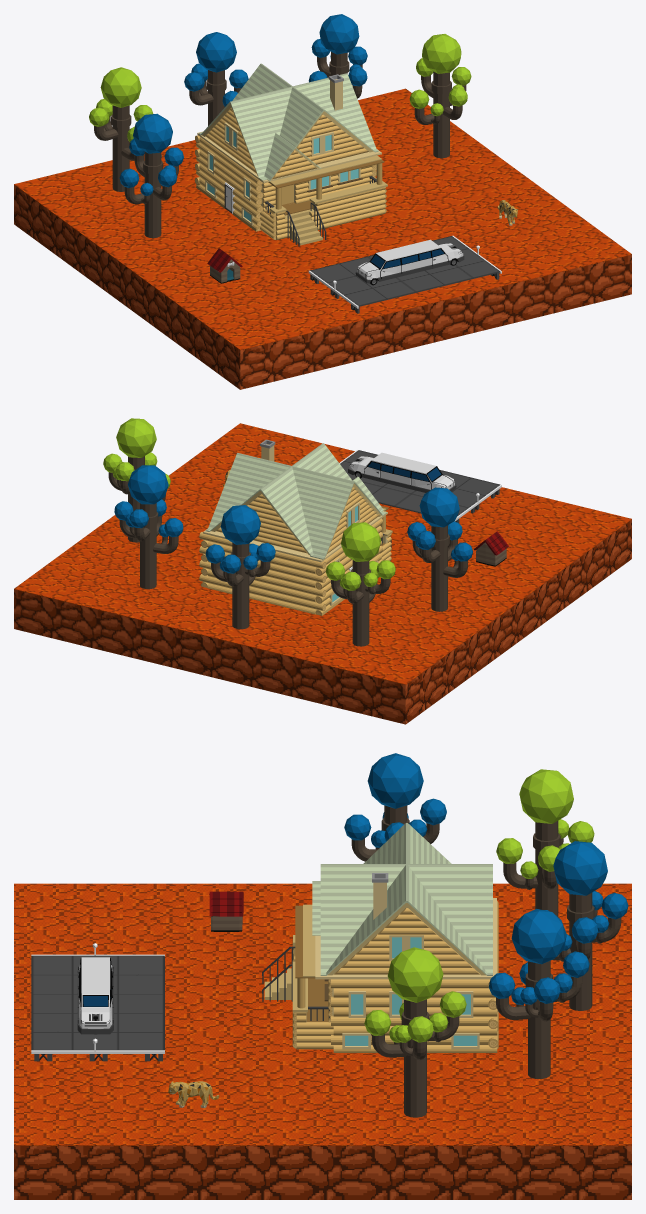
3 renders of one model, top to bottom at view 1: azimuth 30°, elevation 25°; view 2: azimuth 150°, elevation 25°; view 3: azimuth 270°, elevation 25°, orthographic. The views are drawn at different scales.
Parts seen in each view (by area): view 1: Cube.001, Cube.1516, VEHICLES_LIMOUSINE, OBJRANDOM_DOGHOUSE; view 2: Cube.001, Cube.1516, VEHICLES_LIMOUSINE, OBJRANDOM_DOGHOUSE; view 3: Cube.001, Cube.1516, VEHICLES_LIMOUSINE, OBJRANDOM_DOGHOUSE, ANIMAL_JAGUAR.
Boxes of the visible parts, <box> form: Cube.001: <box>14,14,631,389</box>; Cube.1516: <box>195,63,387,246</box>; VEHICLES_LIMOUSINE: <box>355,239,464,285</box>; OBJRANDOM_DOGHOUSE: <box>207,248,242,283</box>; Cube.001: <box>14,418,631,724</box>; Cube.1516: <box>199,439,392,615</box>; VEHICLES_LIMOUSINE: <box>348,452,456,492</box>; OBJRANDOM_DOGHOUSE: <box>473,531,508,566</box>; Cube.001: <box>14,753,631,1199</box>; Cube.1516: <box>262,823,498,1052</box>; VEHICLES_LIMOUSINE: <box>77,957,113,1034</box>; OBJRANDOM_DOGHOUSE: <box>209,891,243,931</box>; ANIMAL_JAGUAR: <box>168,1081,219,1108</box>.
Size of the model in its own units: 4000 by 1642 by 4000.
45 materials, 5 textured.
